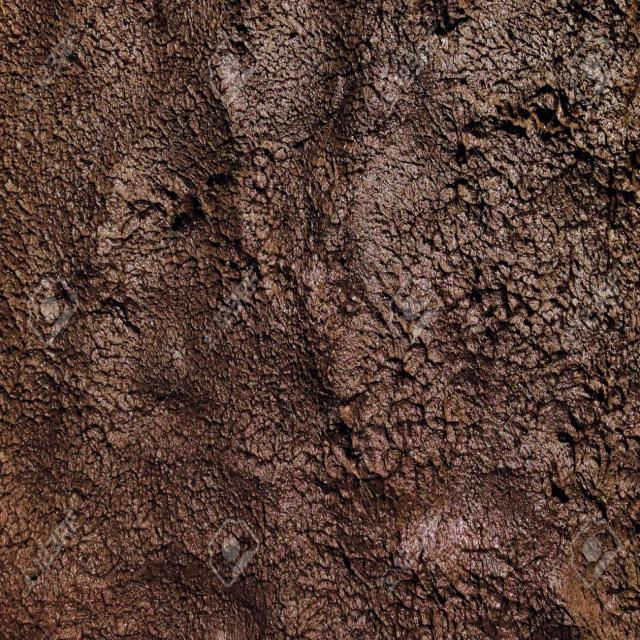suelo_humedo: (158, 85, 433, 512)
